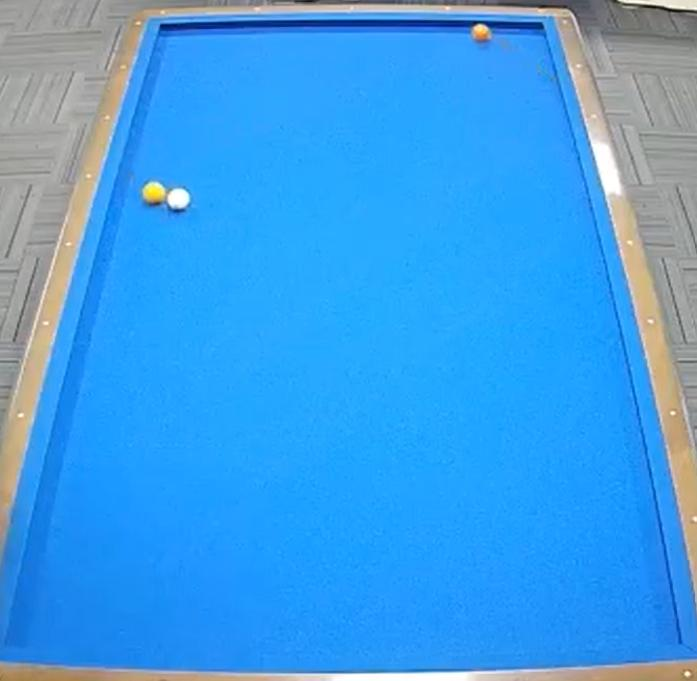orange ball: (467, 19, 494, 48)
white ball: (165, 186, 193, 215)
yellow ball: (140, 179, 167, 212)
